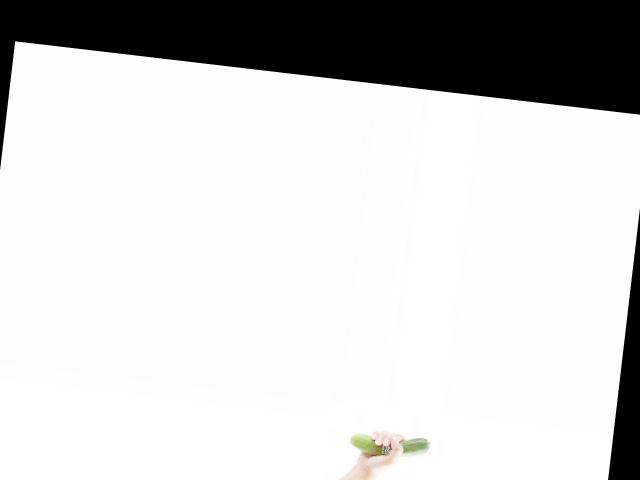cucumber: (349, 428, 430, 461)
